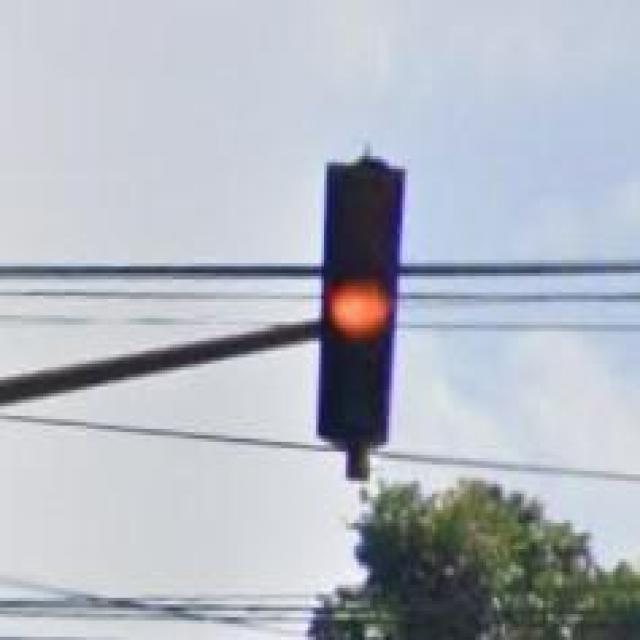yellow_light: (316, 163, 405, 458)
